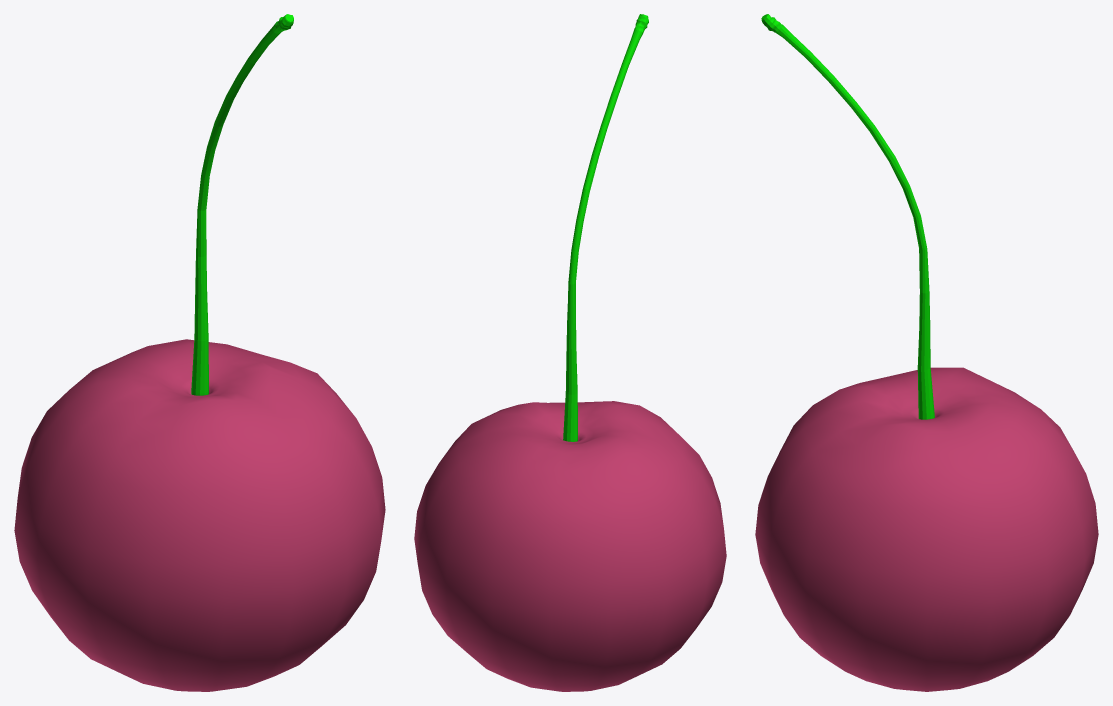
File: Cherry.fbx
3 renders of one model, left to right at view 1: azimuth 30°, elevation 25°; view 2: azimuth 150°, elevation 25°; view 3: azimuth 270°, elevation 25°, orthographic. The views are drawn at different scales.
Visible parts, largest first — view 1: polySurface1; view 2: polySurface1; view 3: polySurface1.
Part boxes in pixels (x1,y1,x2,y2): polySurface1: (14, 14, 385, 691); polySurface1: (414, 14, 726, 691); polySurface1: (755, 14, 1098, 691).
Size of the model in its own units: 17.86 by 37.97 by 17.86.
